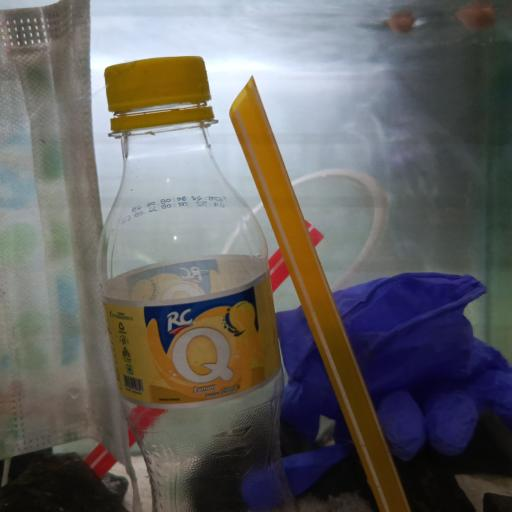bottle_cap: (103, 56, 214, 110)
glove: (232, 268, 512, 512)
mask: (0, 0, 134, 473)
plastic_bottle: (96, 57, 301, 512)
plastic_cup: (217, 169, 412, 298)
plastic_straw: (228, 74, 411, 512), (86, 218, 325, 476)
